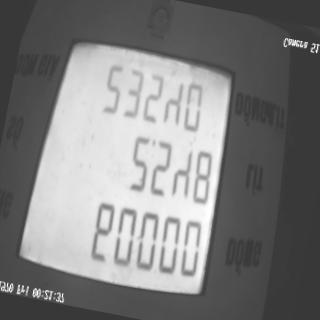screen: (4, 4, 256, 320)
